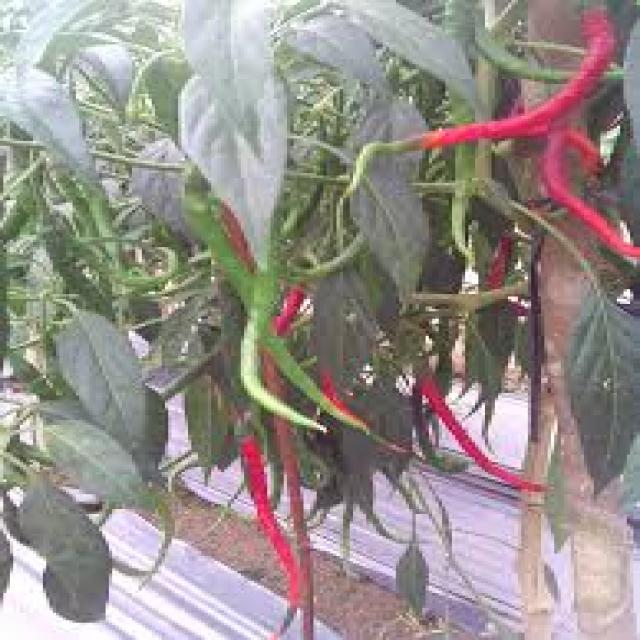Mosaic_virus: (0, 0, 640, 596)
